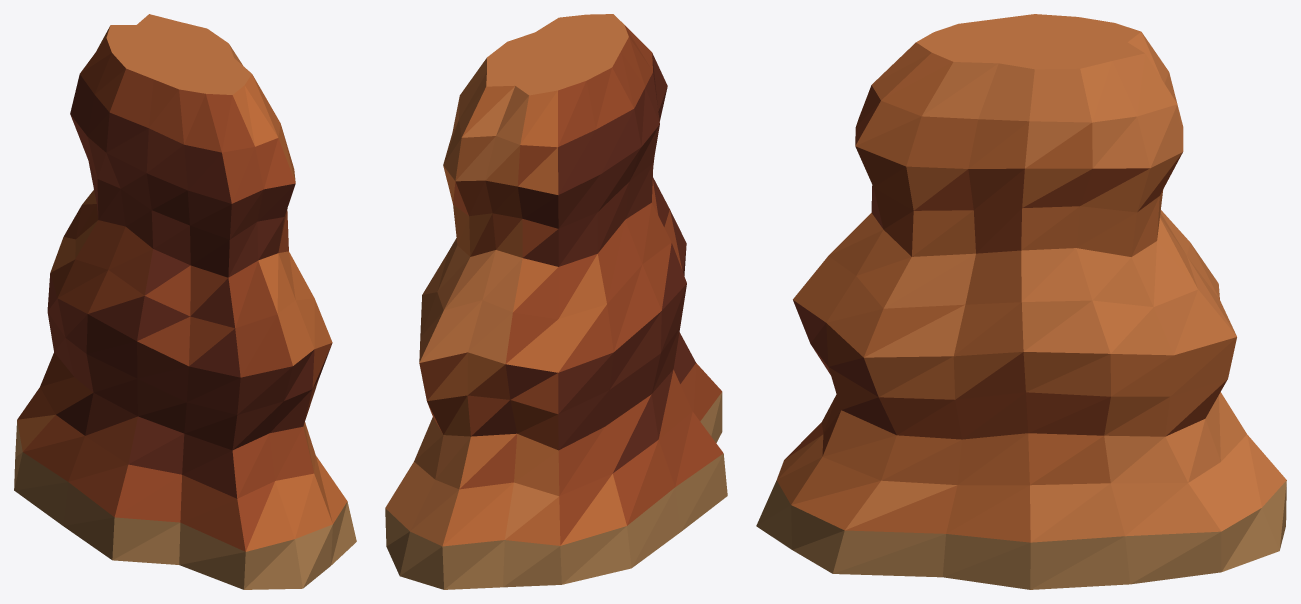
File: rockB.glb
3 renders of one model, left to right at view 1: azimuth 30°, elevation 25°; view 2: azimuth 150°, elevation 25°; view 3: azimuth 270°, elevation 25°, orthographic. The views are drawn at different scales.
Parts seen in each view (by area): view 1: RedRockKitB; view 2: RedRockKitB; view 3: RedRockKitB.
Boxes of the visible parts, left/top/right/bottom form: RedRockKitB: left=14, top=14, right=356, bottom=589; RedRockKitB: left=385, top=14, right=727, bottom=589; RedRockKitB: left=756, top=14, right=1286, bottom=589.
Size of the model in its own units: 4.18 by 7.5 by 7.44.
